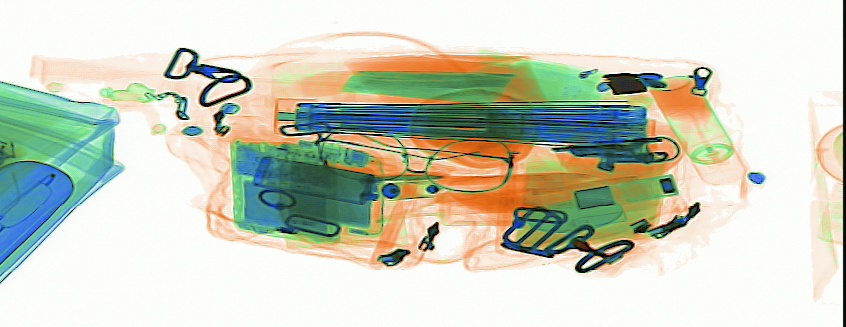pressure: (645, 72, 742, 183)
